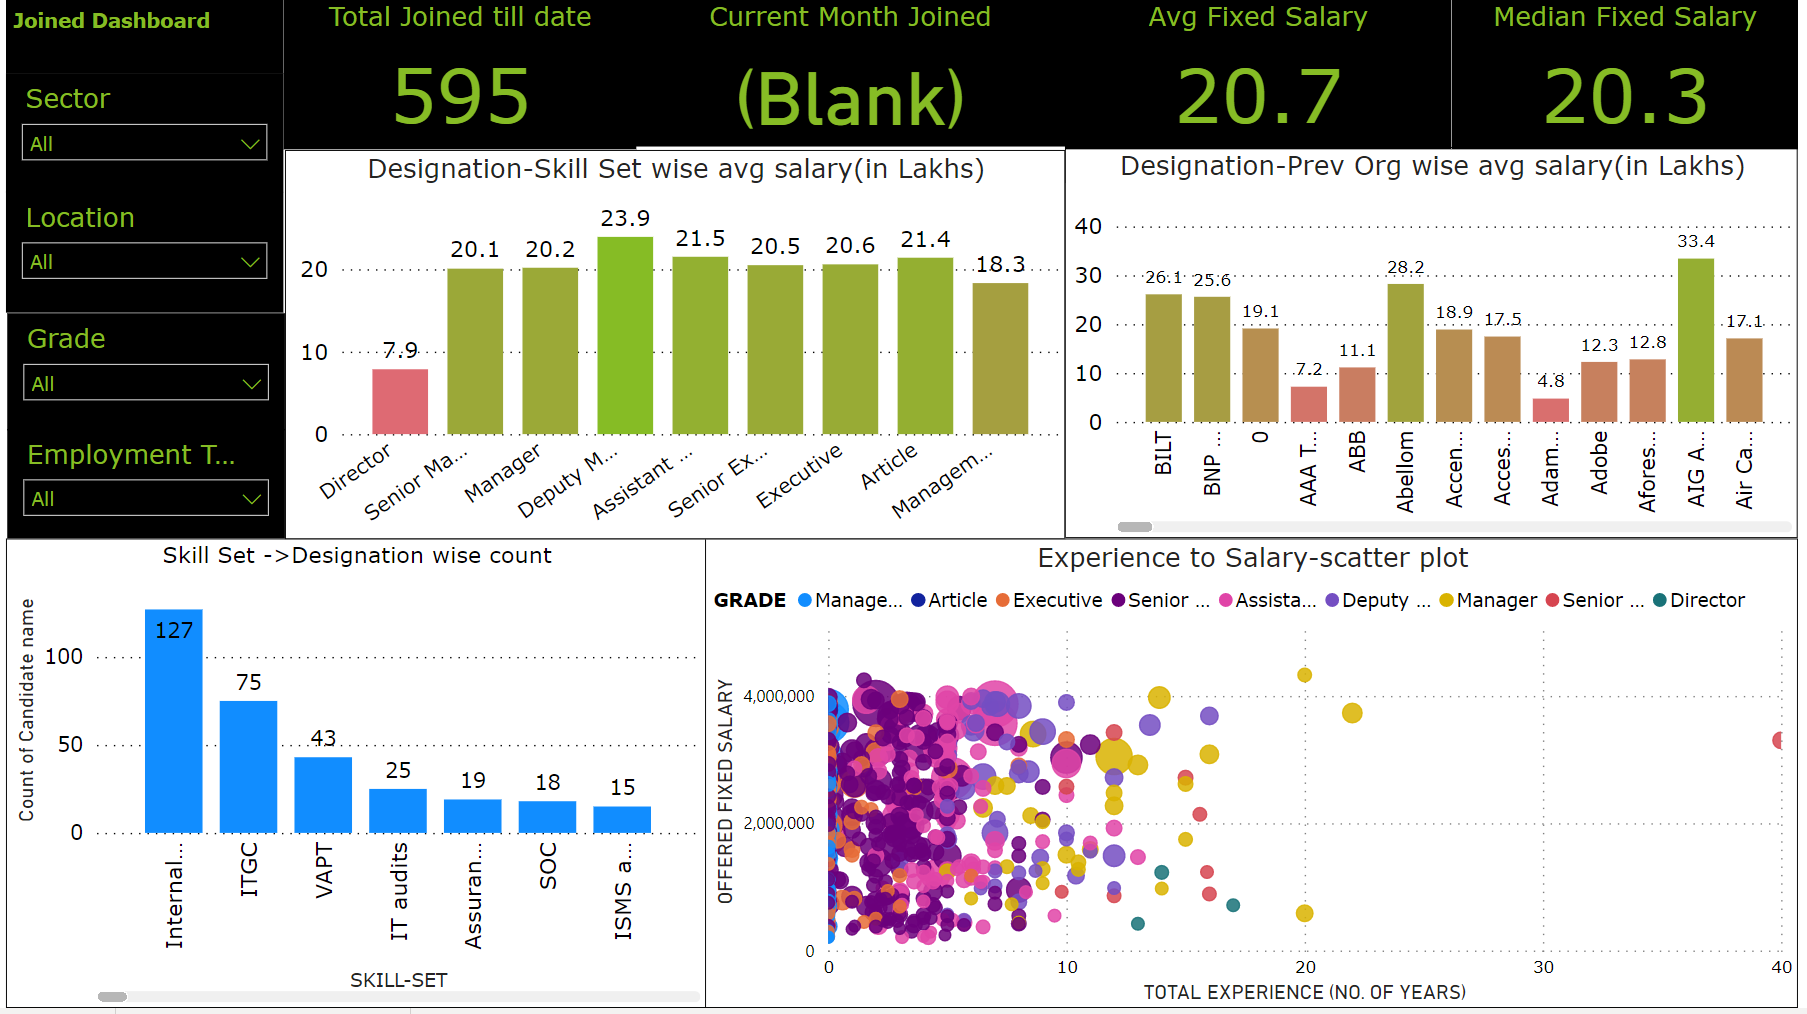

What the dashboard file says about the page in this screenshot:
{"tool":"powerbi","page":{"name":"Joined Board-2","canvas":[1280,720],"ordinal":2},"visuals":[{"type":"clusteredColumnChart","title":"Designation-Prev Org wise avg salary(in Lakhs)","fields":{"Category":["Recruitment Data.Grade","Perm, FTC, Intern & Article. LAST ORGANIZATION"],"Y":["Perm, FTC, Intern & Article.Offered Salary_L"]},"box":[756.7,105.4,523.6,279.4],"z":0},{"type":"scatterChart","title":"Experience to Salary-scatter plot","fields":{"X":["Sum(Recruitment Data.TOTAL EXPERIENCE  (NO. OF YEARS))"],"Y":["Sum(Perm, FTC, Intern & Article.OFFERED FIXED SALARY )"],"Size":["Perm, FTC, Intern & Article.Pay Increase"],"Category":["Recruitment Data.Offered Candidate name"],"Series":["Recruitment Data.Grade"]},"box":[499.7,384.7,780.7,335.3],"z":1000},{"type":"lineStackedColumnComboChart","title":"Skill Set ->Designation wise count","fields":{"Y":["CountNonNull(Recruitment Data.Offered Candidate name)"],"Category":["Recruitment Data.Skill-set","Recruitment Data.Grade"]},"box":[0,384.7,499.7,335.3],"z":2000},{"type":"card","title":"Total Joined till date","fields":{"Values":["Perm, FTC, Intern & Article.Candidate Count"]},"box":[198,0,252.2,107],"z":3000},{"type":"card","title":"Current Month Joined","fields":{"Values":["Perm, FTC, Intern & Article.Current Joined"]},"box":[450.2,0,306.5,107],"z":4000},{"type":"textbox","box":[0,0,197.9,34.1],"z":5000},{"type":"clusteredColumnChart","title":"Designation-Skill Set wise avg salary(in Lakhs)","fields":{"Category":["Recruitment Data.Grade","Recruitment Data.Skill-set"],"Y":["Perm, FTC, Intern & Article.Offered Salary_L"]},"box":[198,105,558.8,279],"z":6000},{"type":"card","title":"Avg Fixed Salary","fields":{"Values":["Perm, FTC, Intern & Article.Offered Salary_L"]},"box":[756.7,0,276.2,107],"z":7000},{"type":"card","title":"Median Fixed Salary","fields":{"Values":["Perm, FTC, Intern & Article.Median Offered Salary"]},"box":[1032.9,0,247.5,107],"z":8000},{"type":"slicer","fields":{"Values":["Recruitment Data.Portfolio Offering"]},"box":[0,105.4,199.5,73],"z":9000},{"type":"slicer","fields":{"Values":["Recruitment Data.Location"]},"box":[0,176.8,197.9,69.8],"z":10000},{"type":"slicer","fields":{"Values":["Recruitment Data.Grade"]},"box":[0,245,197.9,66.5],"z":11000},{"type":"slicer","fields":{"Values":["Recruitment Data.Employment Type"]},"box":[0,311.5,199.5,73],"z":12000},{"type":"slicer","fields":{"Values":["Recruitment Data.Business Leader"]},"box":[0,32.4,197.9,73],"z":13000}]}

Visuals, with their boxes in screenshot pixels (x1, y1, x2, y2), scaled from the page's 1280x720 canvas onto the 1807x1014 screenshot:
"Designation-Prev Org wise avg salary(in Lakhs)" clusteredColumnChart: x1=1068 y1=148 x2=1806 y2=542
"Experience to Salary-scatter plot" scatterChart: x1=705 y1=542 x2=1806 y2=1013
"Skill Set ->Designation wise count" lineStackedColumnComboChart: x1=0 y1=542 x2=705 y2=1013
"Total Joined till date" card: x1=280 y1=0 x2=636 y2=151
"Current Month Joined" card: x1=636 y1=0 x2=1068 y2=151
textbox: x1=0 y1=0 x2=279 y2=48
"Designation-Skill Set wise avg salary(in Lakhs)" clusteredColumnChart: x1=280 y1=148 x2=1068 y2=541
"Avg Fixed Salary" card: x1=1068 y1=0 x2=1458 y2=151
"Median Fixed Salary" card: x1=1458 y1=0 x2=1806 y2=151
slicer - Recruitment Data.Portfolio Offering: x1=0 y1=148 x2=282 y2=251
slicer - Recruitment Data.Location: x1=0 y1=249 x2=279 y2=347
slicer - Recruitment Data.Grade: x1=0 y1=345 x2=279 y2=439
slicer - Recruitment Data.Employment Type: x1=0 y1=439 x2=282 y2=542
slicer - Recruitment Data.Business Leader: x1=0 y1=46 x2=279 y2=148
